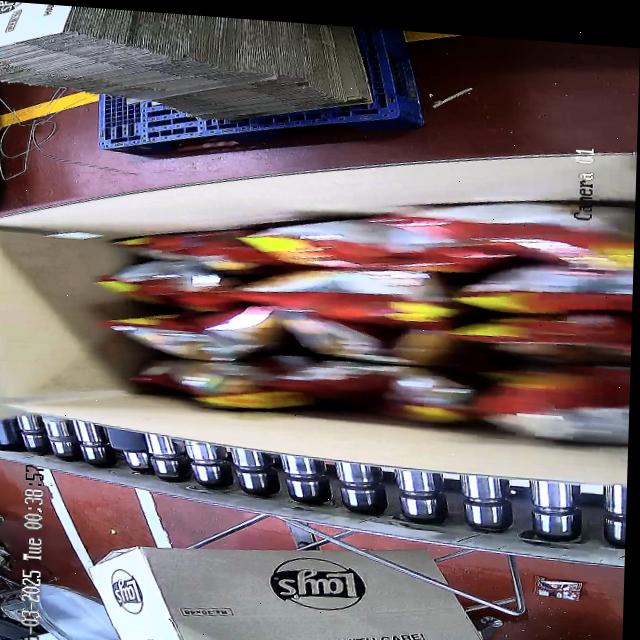MASALA: (88, 171, 635, 441)
